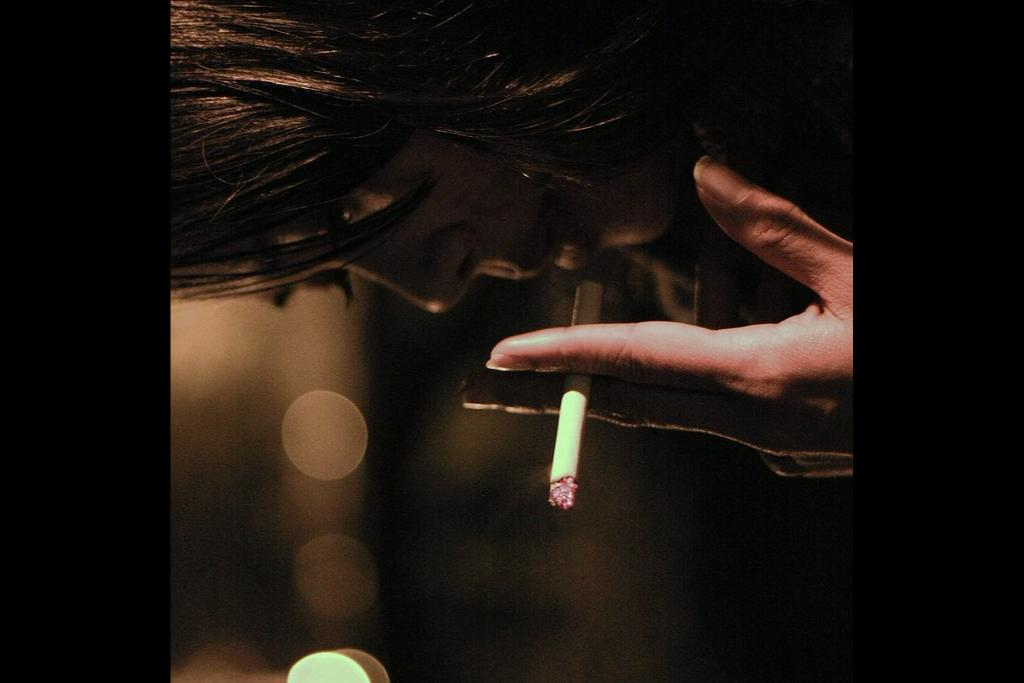Cigarette: (546, 386, 588, 507)
